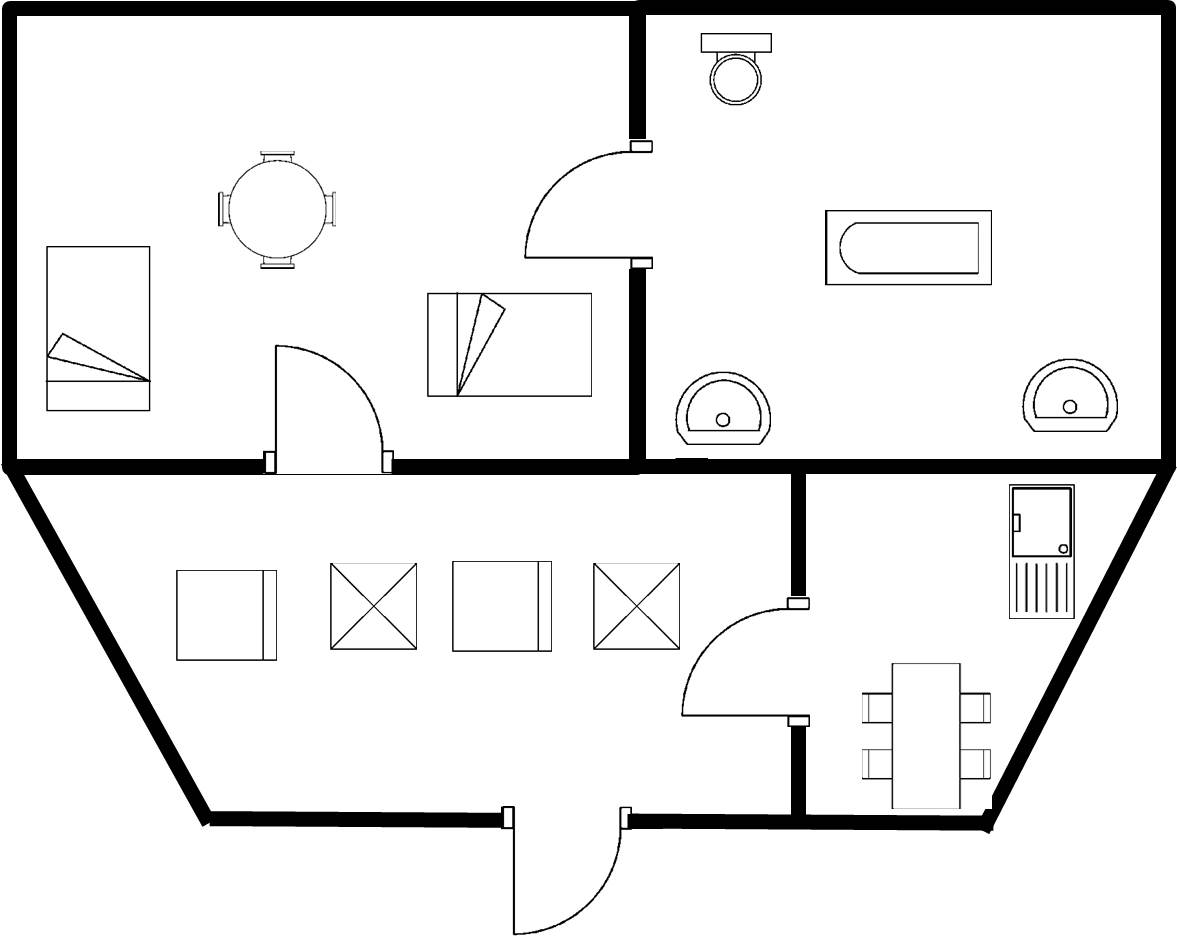bed: (38, 238, 158, 420), (416, 286, 600, 402)
coffee_table: (585, 553, 687, 655), (323, 556, 422, 656)
dining_table: (854, 654, 998, 817)
large_sink: (694, 27, 783, 110)
round_table: (210, 139, 345, 278)
sink: (1002, 477, 1082, 629)
small_sink: (1015, 350, 1125, 442), (666, 366, 778, 449)
small_sofa: (442, 553, 558, 663), (168, 563, 282, 671)
tub: (816, 203, 1007, 293)
